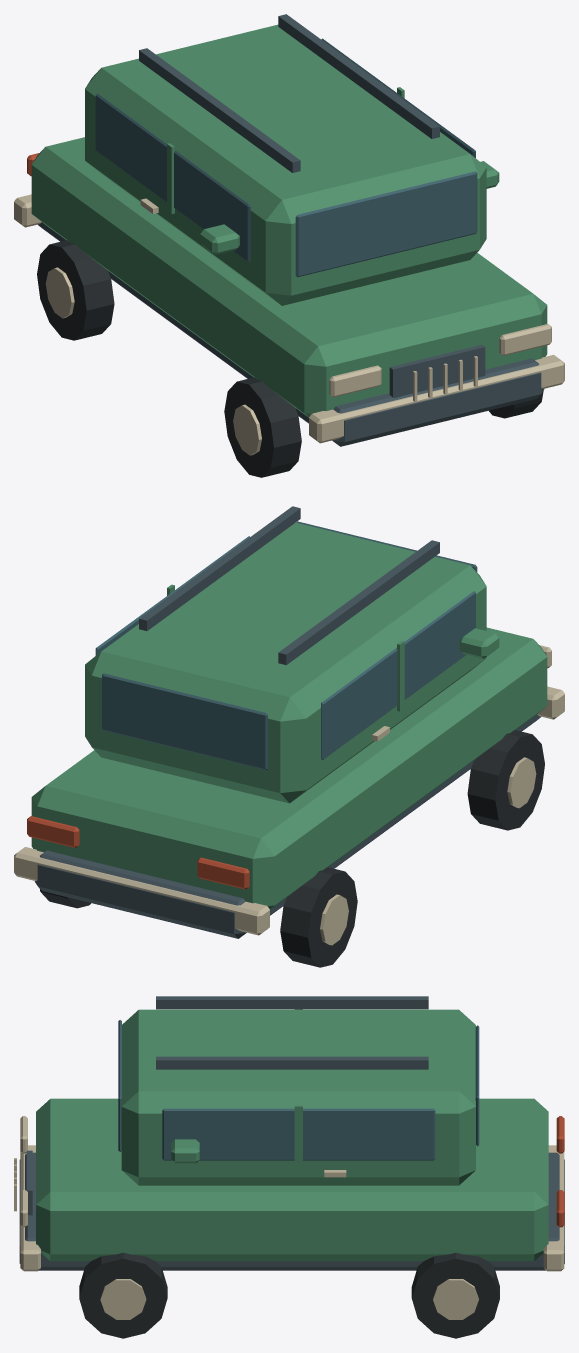
File: vehicle_utility.glb
3 renders of one model, top to bottom at view 1: azimuth 30°, elevation 25°; view 2: azimuth 150°, elevation 25°; view 3: azimuth 270°, elevation 25°, orthographic. The views are drawn at different scales.
Visible parts, largest first — view 1: vehicle_utility; view 2: vehicle_utility; view 3: vehicle_utility.
Boxes of the visible parts, box(x1,y1,x2,y2) form: vehicle_utility: box(14, 14, 564, 477); vehicle_utility: box(14, 506, 564, 967); vehicle_utility: box(14, 996, 564, 1338).
Size of the model in its own units: 2.27 by 2.14 by 4.24.
